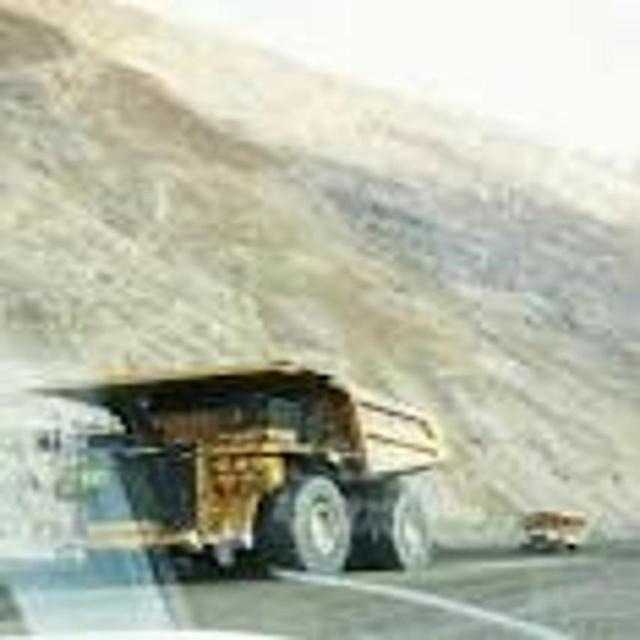dump_truck: (30, 338, 458, 584)
